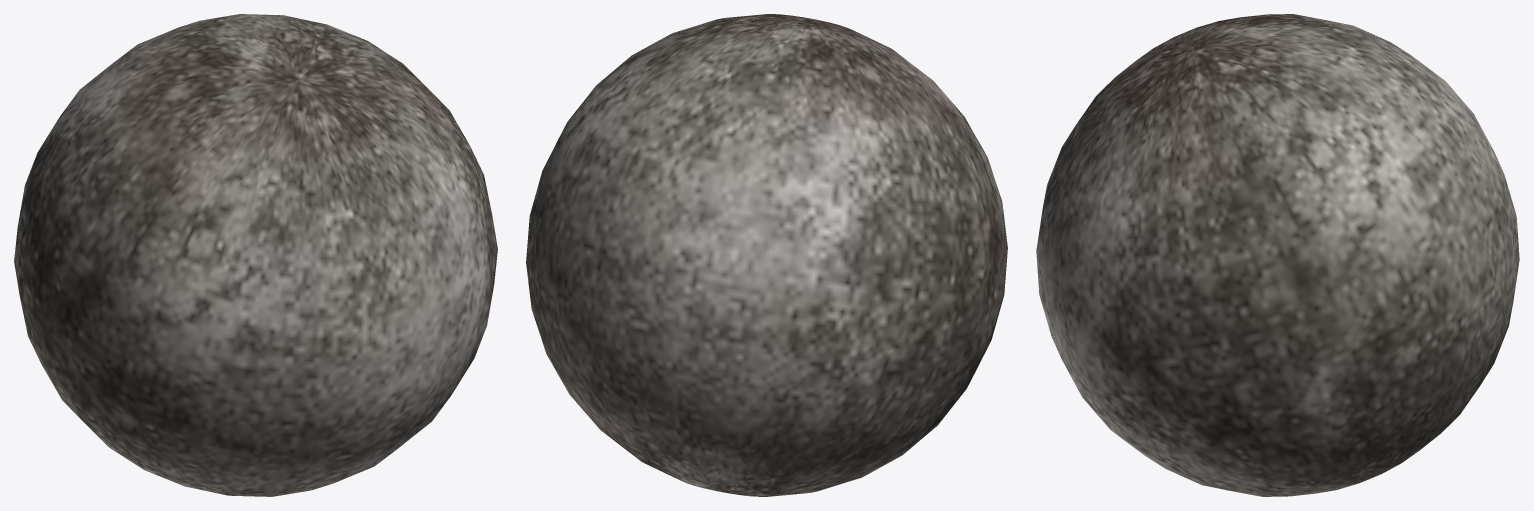
The model's file is Mercury.dae.
3 views of the same model, side by side, from view 1: azimuth 30°, elevation 25°; view 2: azimuth 150°, elevation 25°; view 3: azimuth 270°, elevation 25° (orthographic).
Visible parts, largest first — view 1: SketchUp; view 2: SketchUp; view 3: SketchUp.
Boxes of the visible parts, x1,y1,x2,y2 form: SketchUp: [14, 14, 497, 496]; SketchUp: [526, 14, 1007, 496]; SketchUp: [1036, 14, 1519, 496].
Bounding box in the file's own units: 80.66 × 80.62 × 80.67.
Materials: 1 (1 with a texture image).
